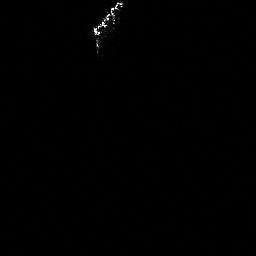ship: (87, 2, 123, 50)
